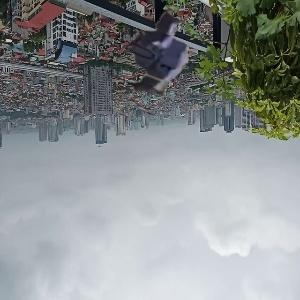drone: (104, 1, 223, 120)
